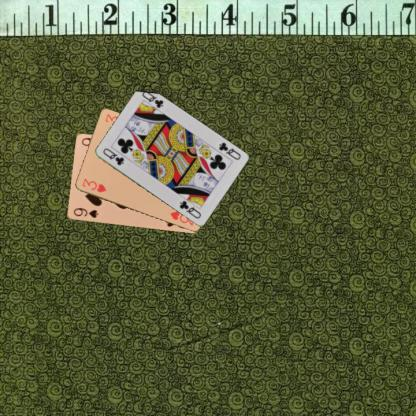3h: (79, 176, 108, 194)
9s: (71, 205, 99, 220)
Qc: (216, 140, 242, 161), (100, 146, 125, 167)
